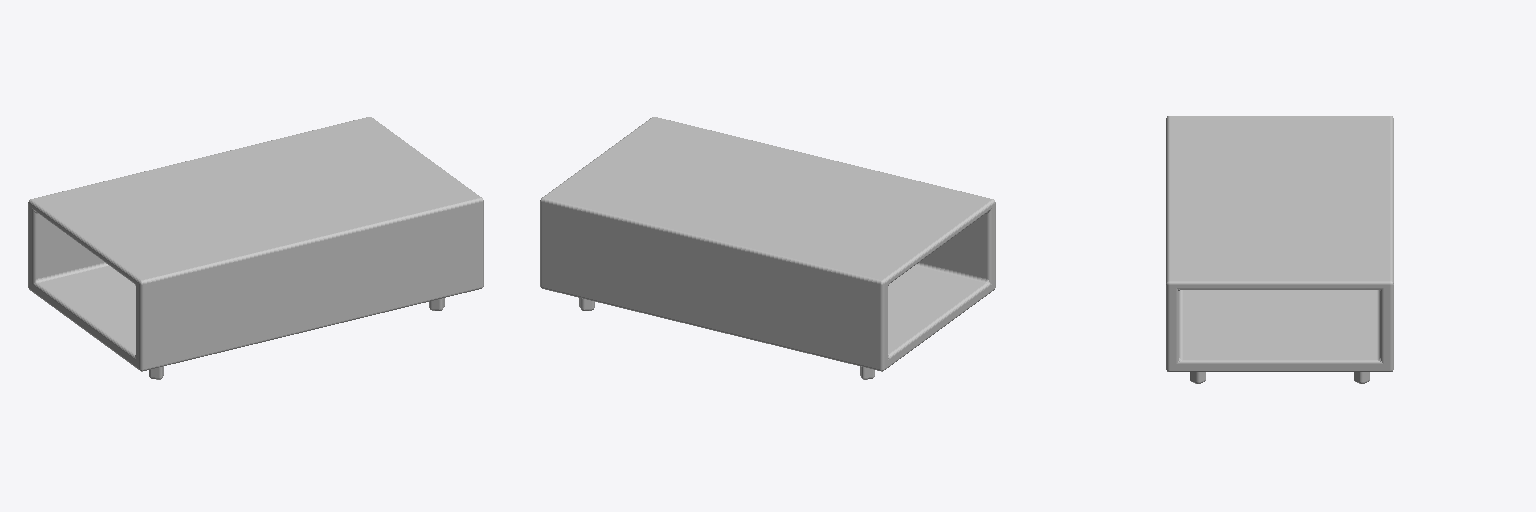
The model's file is drawer.obj.
The picture shows the model from 3 angles: view 1: azimuth 30°, elevation 25°; view 2: azimuth 150°, elevation 25°; view 3: azimuth 270°, elevation 25°; orthographic projection.
Parts seen in each view (by area): view 1: drawer_Cube.006; view 2: drawer_Cube.006; view 3: drawer_Cube.006.
Boxes of the visible parts, x1,y1,x2,y2 form: drawer_Cube.006: [28, 117, 483, 379]; drawer_Cube.006: [540, 117, 995, 379]; drawer_Cube.006: [1166, 116, 1393, 383].
Bounding box in the file's own units: 1.22 × 0.3894 × 0.6986.